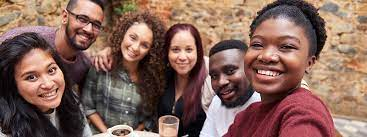person: (243, 1, 328, 97), (7, 36, 67, 115), (208, 40, 246, 108), (60, 1, 106, 51), (164, 23, 203, 76), (118, 17, 157, 64)
